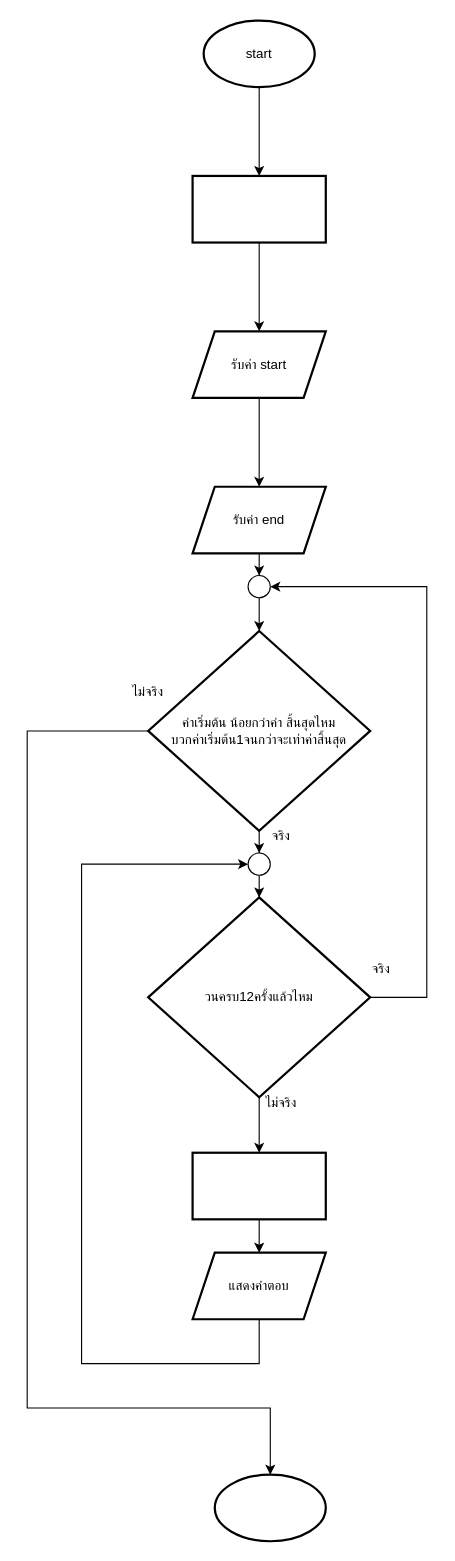
This 455x1561 diagram has some shape labels left out. The shapes that lost their labels are listed below. From the top down, each one's box as (x1, y1, x2, y2) in pixels, then its label:
(191, 174, 326, 243): กำหนดตัวแปร
(191, 1151, 326, 1220): จากสูตร answer = ค่าเริ่มต้น * จำนวนรอบ
(213, 1473, 326, 1542): end
